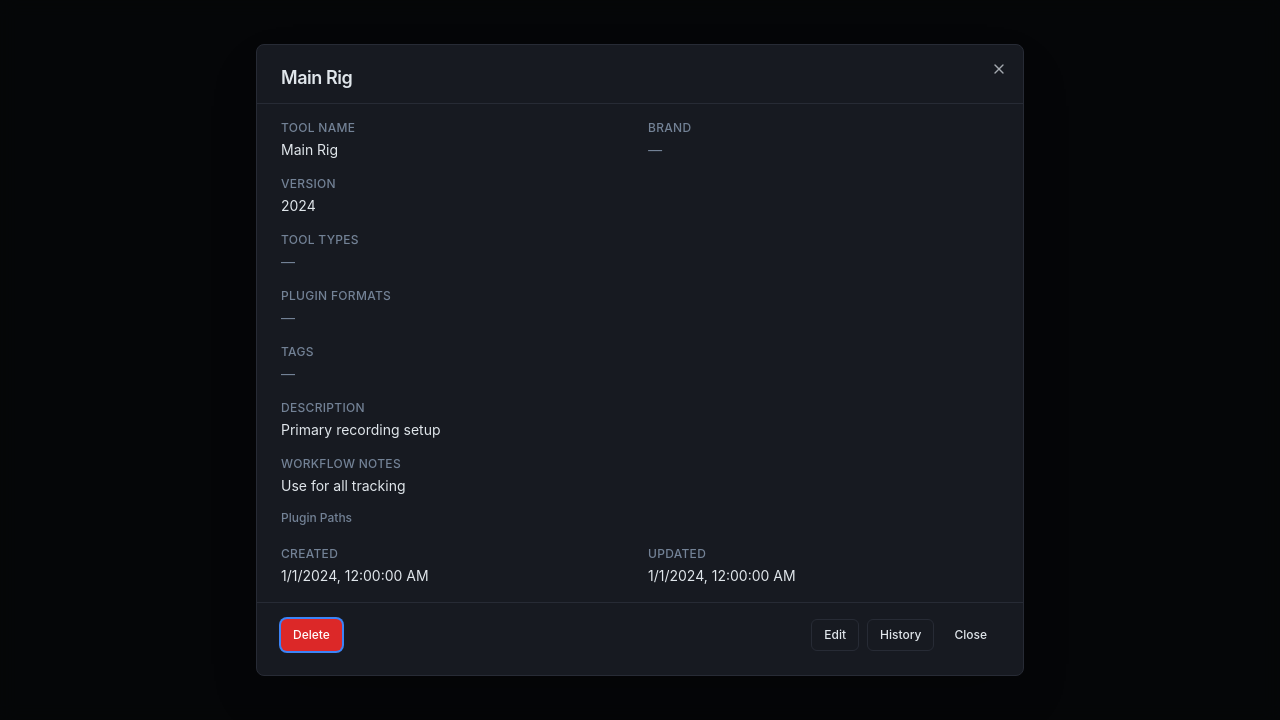
Test: WorkstationModal — view mode › shows edit title when editing an existing record
The image size is (1280, 720).
Click the button "Edit": (835, 635) [811,619,859,651]
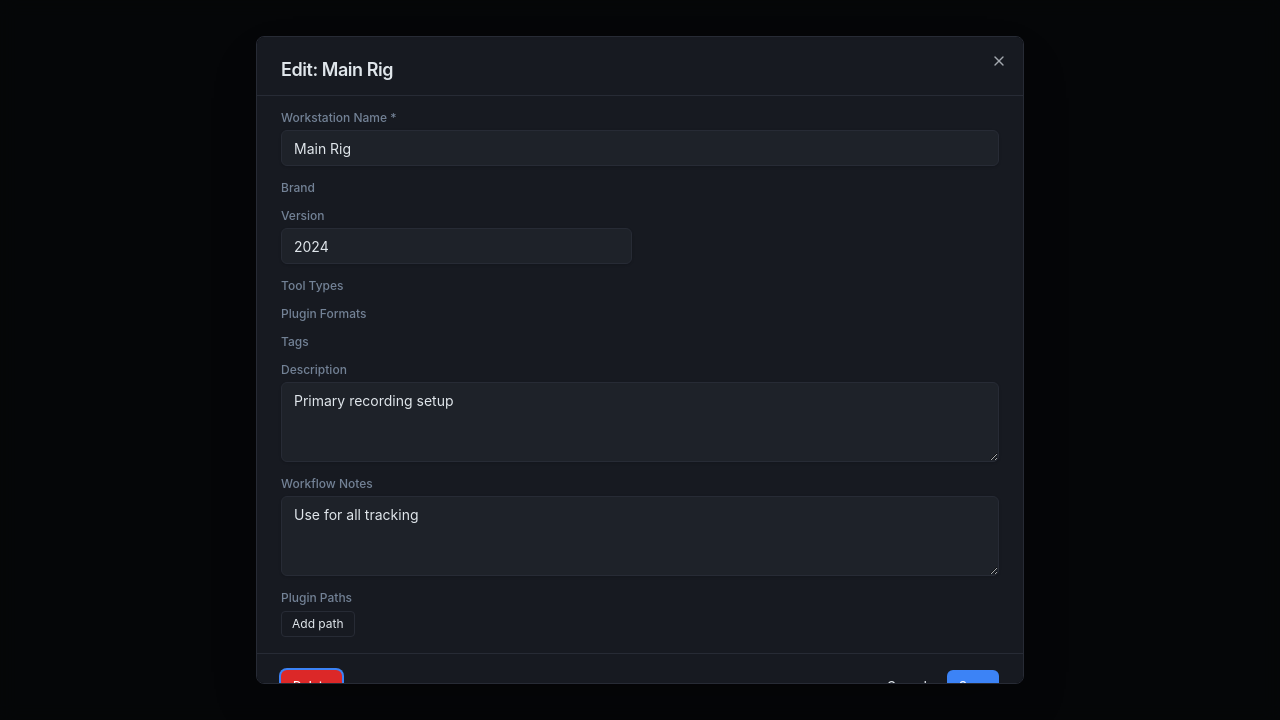
Result: the heading "Edit: Main Rig" is shown at [281,59,393,80]
